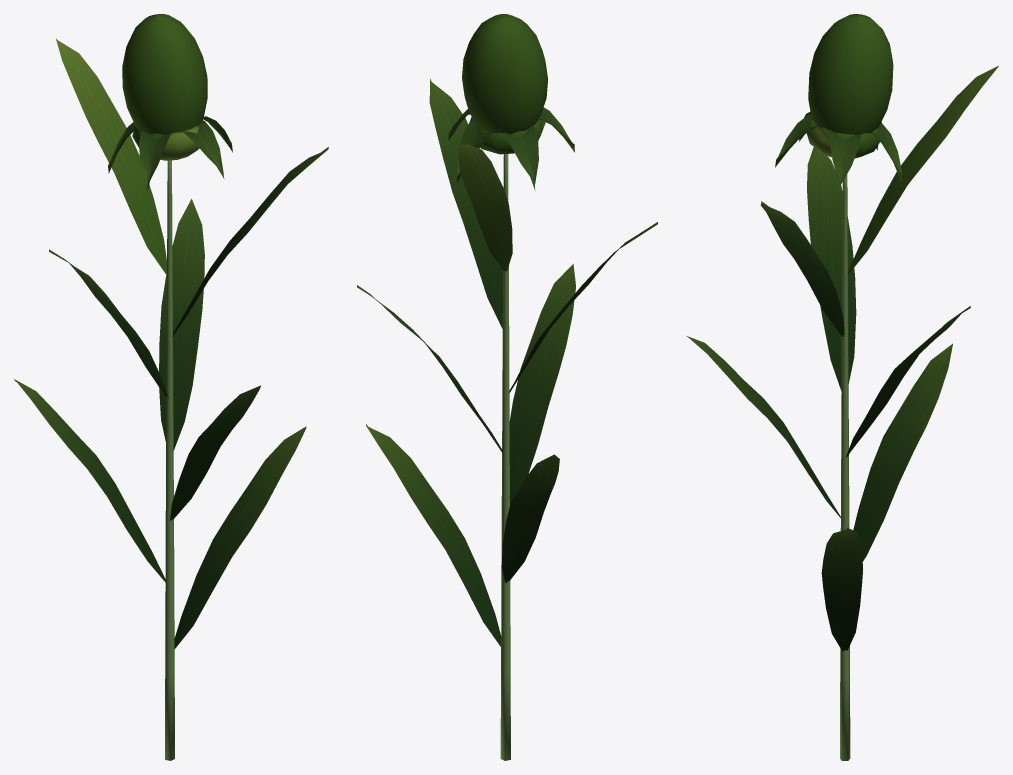
File: iris-07-lod.glb
The picture shows the model from 3 angles, left to right: view 1: azimuth 30°, elevation 25°; view 2: azimuth 150°, elevation 25°; view 3: azimuth 270°, elevation 25°; orthographic projection.
Visible parts, largest first — view 1: iris_stage_07_leaf_veins.013, iris_stage_07_young_leaf.013, iris_stage_07_stem_fibres.013; view 2: iris_stage_07_leaf_veins.013, iris_stage_07_young_leaf.013, iris_stage_07_stem_fibres.013; view 3: iris_stage_07_leaf_veins.013, iris_stage_07_young_leaf.013, iris_stage_07_stem_fibres.013.
Boxes of the visible parts, left/top/right/bottom form: iris_stage_07_leaf_veins.013: left=14, top=116, right=328, bottom=648; iris_stage_07_young_leaf.013: left=56, top=14, right=207, bottom=275; iris_stage_07_stem_fibres.013: left=165, top=160, right=174, bottom=760; iris_stage_07_leaf_veins.013: left=357, top=78, right=657, bottom=646; iris_stage_07_young_leaf.013: left=458, top=14, right=547, bottom=271; iris_stage_07_stem_fibres.013: left=500, top=154, right=510, bottom=760; iris_stage_07_leaf_veins.013: left=686, top=112, right=970, bottom=651; iris_stage_07_young_leaf.013: left=806, top=14, right=998, bottom=275; iris_stage_07_stem_fibres.013: left=840, top=174, right=850, bottom=760.
Bounding box in the file's own units: 0.23 × 0.5946 × 0.2272.
Materials: 3 (2 with a texture image).
